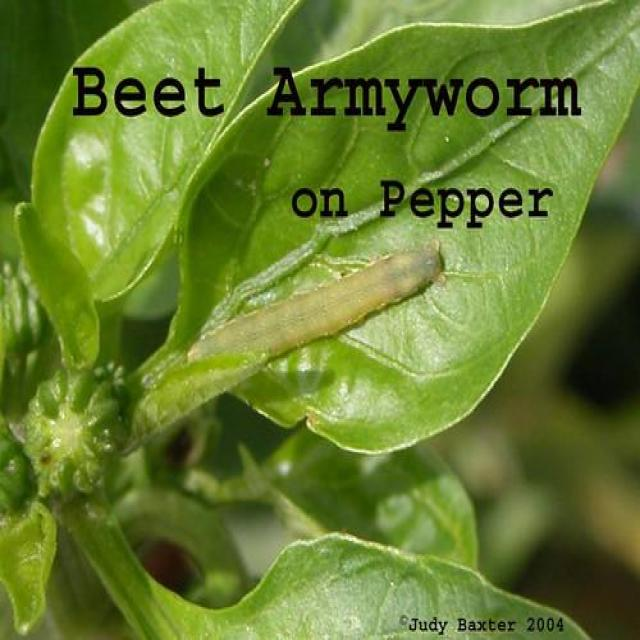BeetArmyWorm-Larva-: (176, 237, 452, 381)
